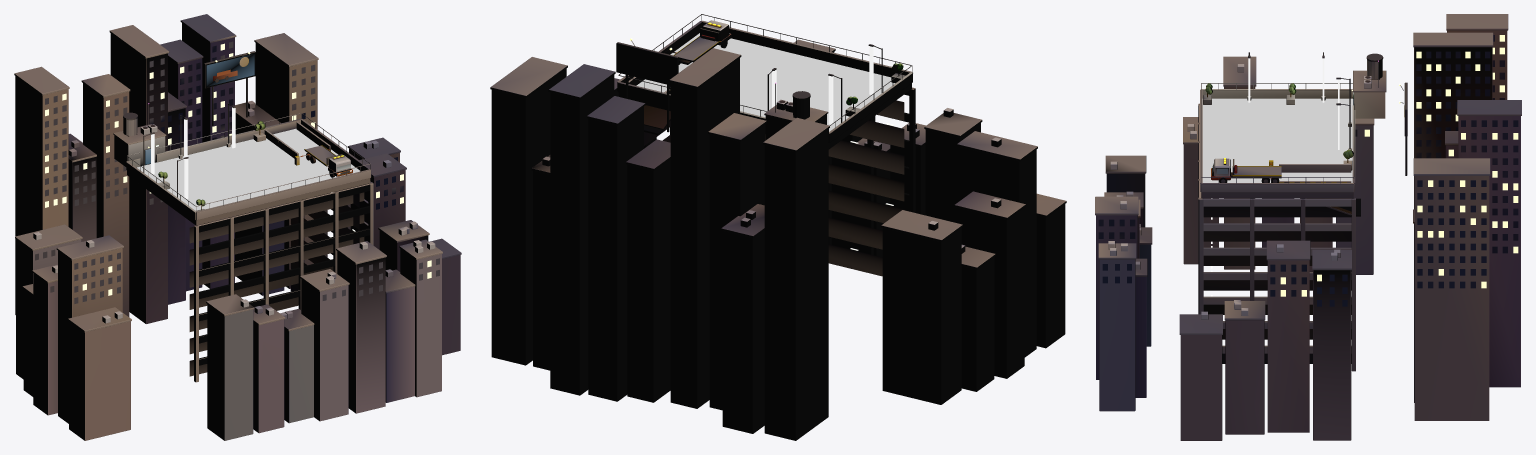
Rendered from rooftop.glb.
3 renders of one model, left to right at view 1: azimuth 30°, elevation 25°; view 2: azimuth 150°, elevation 25°; view 3: azimuth 270°, elevation 25°, orthographic. The views are drawn at different scales.
Visible parts, largest first — view 1: City, Facade, DeckTop, Deck, Props, Tower, TowTruck; view 2: City, Facade, DeckTop, Deck, Props, Tower, TowTruck; view 3: City, Facade, DeckTop, Deck, Tower, TowTruck, Props.
Part boxes in pixels (x1=…): City: x1=14, y1=14, x2=461, y2=440; Facade: x1=189, y1=181, x2=373, y2=382; DeckTop: x1=137, y1=128, x2=359, y2=210; Deck: x1=126, y1=113, x2=371, y2=225; Props: x1=143, y1=51, x2=265, y2=211; Tower: x1=113, y1=103, x2=166, y2=166; TowTruck: x1=304, y1=145, x2=352, y2=177; City: x1=490, y1=39, x2=1066, y2=440; Facade: x1=644, y1=87, x2=915, y2=276; DeckTop: x1=636, y1=33, x2=894, y2=131; Deck: x1=617, y1=14, x2=912, y2=149; Props: x1=616, y1=38, x2=905, y2=132; Tower: x1=764, y1=82, x2=828, y2=139; TowTruck: x1=673, y1=20, x2=731, y2=64; City: x1=1095, y1=14, x2=1521, y2=440; Facade: x1=1198, y1=103, x2=1355, y2=371; DeckTop: x1=1202, y1=98, x2=1352, y2=182; Deck: x1=1200, y1=83, x2=1360, y2=216; Tower: x1=1351, y1=53, x2=1386, y2=118; TowTruck: x1=1211, y1=158, x2=1281, y2=182; Props: x1=1203, y1=52, x2=1407, y2=175.
Size of what is drawn, in the model's own units: 55.17 by 37.41 by 48.97.
